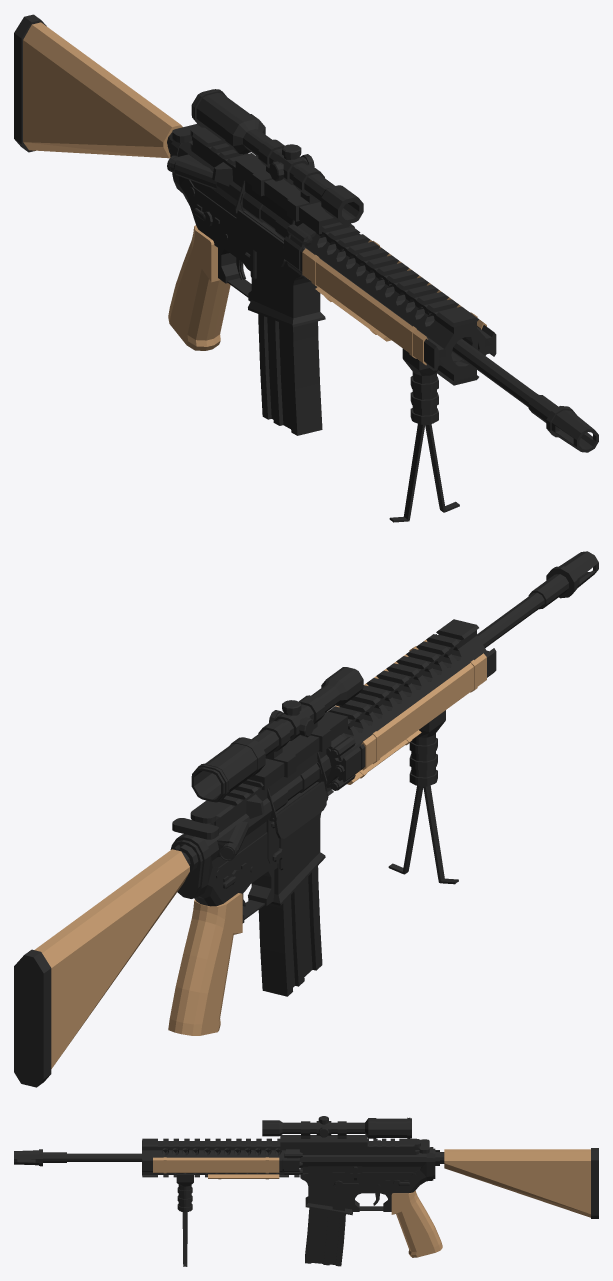
Rendered from M4Sniper.fbx.
3 renders of one model, top to bottom at view 1: azimuth 30°, elevation 25°; view 2: azimuth 150°, elevation 25°; view 3: azimuth 270°, elevation 25°, orthographic. The views are drawn at different scales.
Visible parts, largest first — view 1: Body, Handguard, Stock, Cube, Mag, Barrel, Grip; view 2: Body, Stock, Handguard, Cube, Mag, Grip, Barrel; view 3: Body, Stock, Handguard, Cube, Mag, Barrel, Grip.
Part boxes in pixels (<box>): Body: <box>167,124,325,350</box>; Handguard: <box>283,222,496,385</box>; Stock: <box>14,14,182,158</box>; Cube: <box>191,89,363,234</box>; Mag: <box>258,314,322,435</box>; Barrel: <box>452,339,598,452</box>; Grip: <box>389,348,459,522</box>; Body: <box>168,749,331,1035</box>; Stock: <box>14,849,189,1087</box>; Handguard: <box>324,619,496,795</box>; Cube: <box>191,667,363,802</box>; Mag: <box>258,866,322,996</box>; Grip: <box>388,710,458,884</box>; Barrel: <box>477,551,598,647</box>; Body: <box>299,1138,444,1257</box>; Stock: <box>444,1148,598,1218</box>; Handguard: <box>142,1138,302,1179</box>; Cube: <box>262,1116,411,1150</box>; Mag: <box>305,1208,345,1266</box>; Barrel: <box>14,1149,141,1166</box>; Grip: <box>176,1174,193,1266</box>.
Bounding box in the file's own units: 1452 × 102 × 398.
